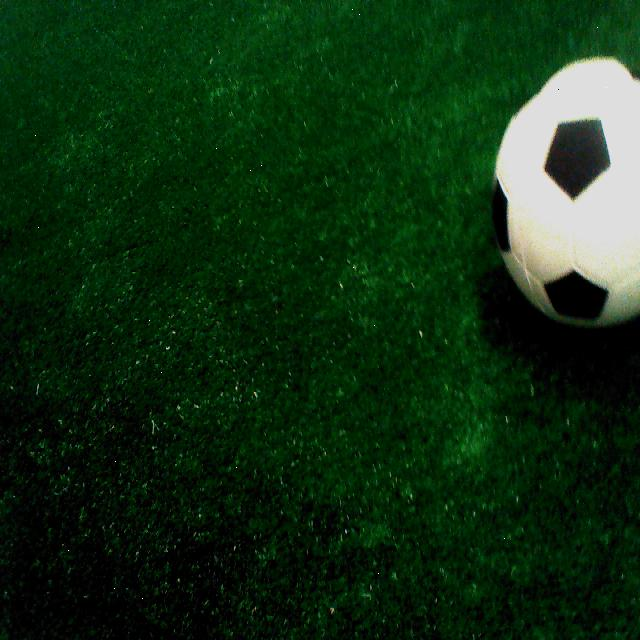ball: (499, 44, 637, 353)
